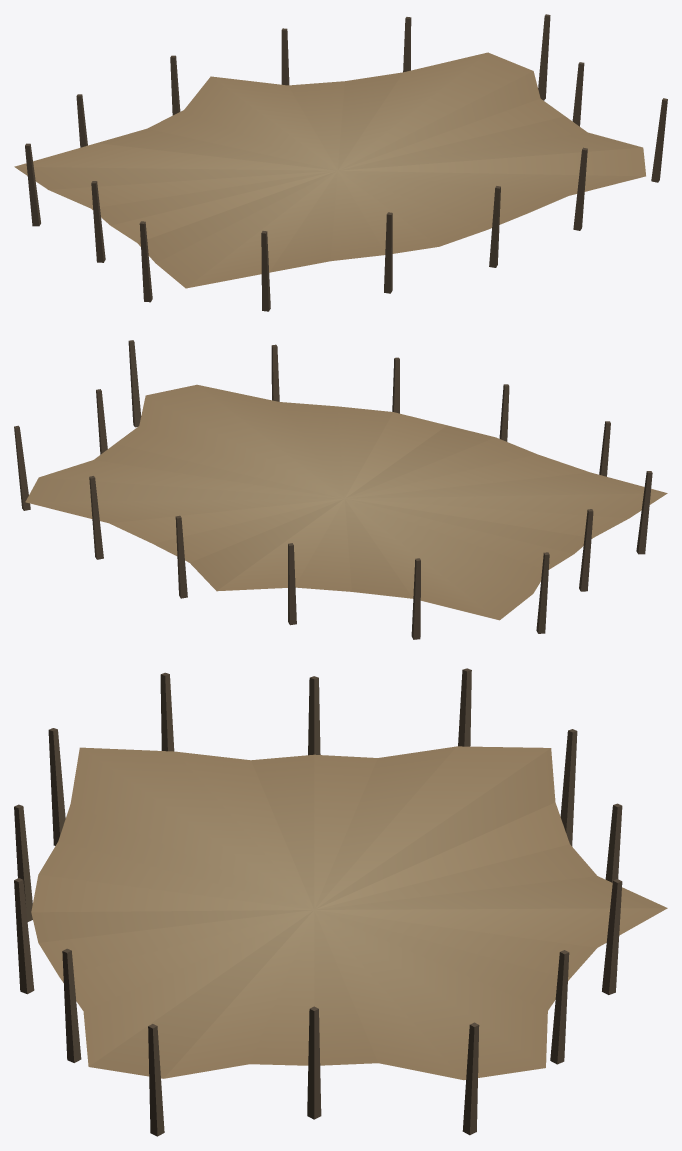
Rendered from cuero_estaqueado.glb.
The picture shows the model from 3 angles, top to bottom: view 1: azimuth 30°, elevation 25°; view 2: azimuth 150°, elevation 25°; view 3: azimuth 270°, elevation 25°; orthographic projection. The views are drawn at different scales.
Visible parts, largest first — view 1: CueroEstaqueado; view 2: CueroEstaqueado; view 3: CueroEstaqueado.
Part boxes in pixels (x1=…): CueroEstaqueado: x1=14, y1=14, x2=667, y2=311; CueroEstaqueado: x1=14, y1=340, x2=667, y2=639; CueroEstaqueado: x1=14, y1=668, x2=667, y2=1136.
Size of the model in its own units: 1.45 by 0.212 by 1.11.
